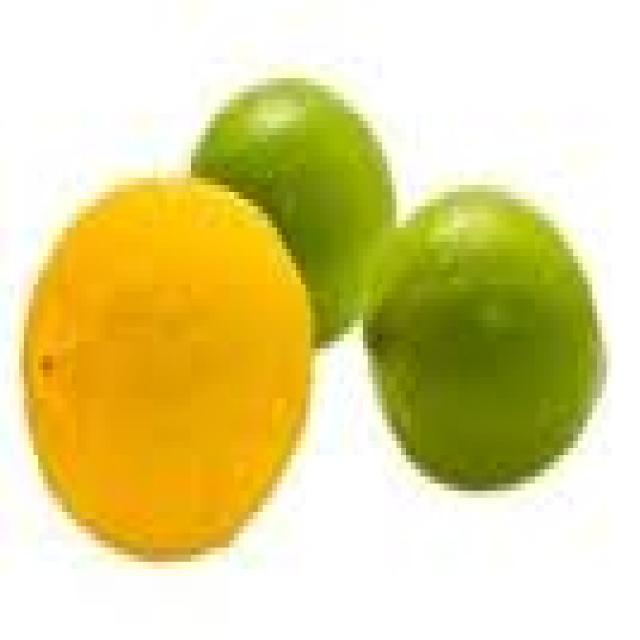lemon: (14, 57, 612, 555)
